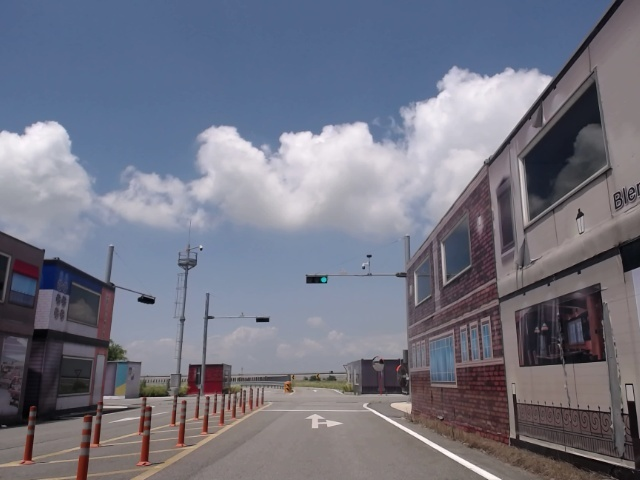green_3: (306, 275, 328, 282)
